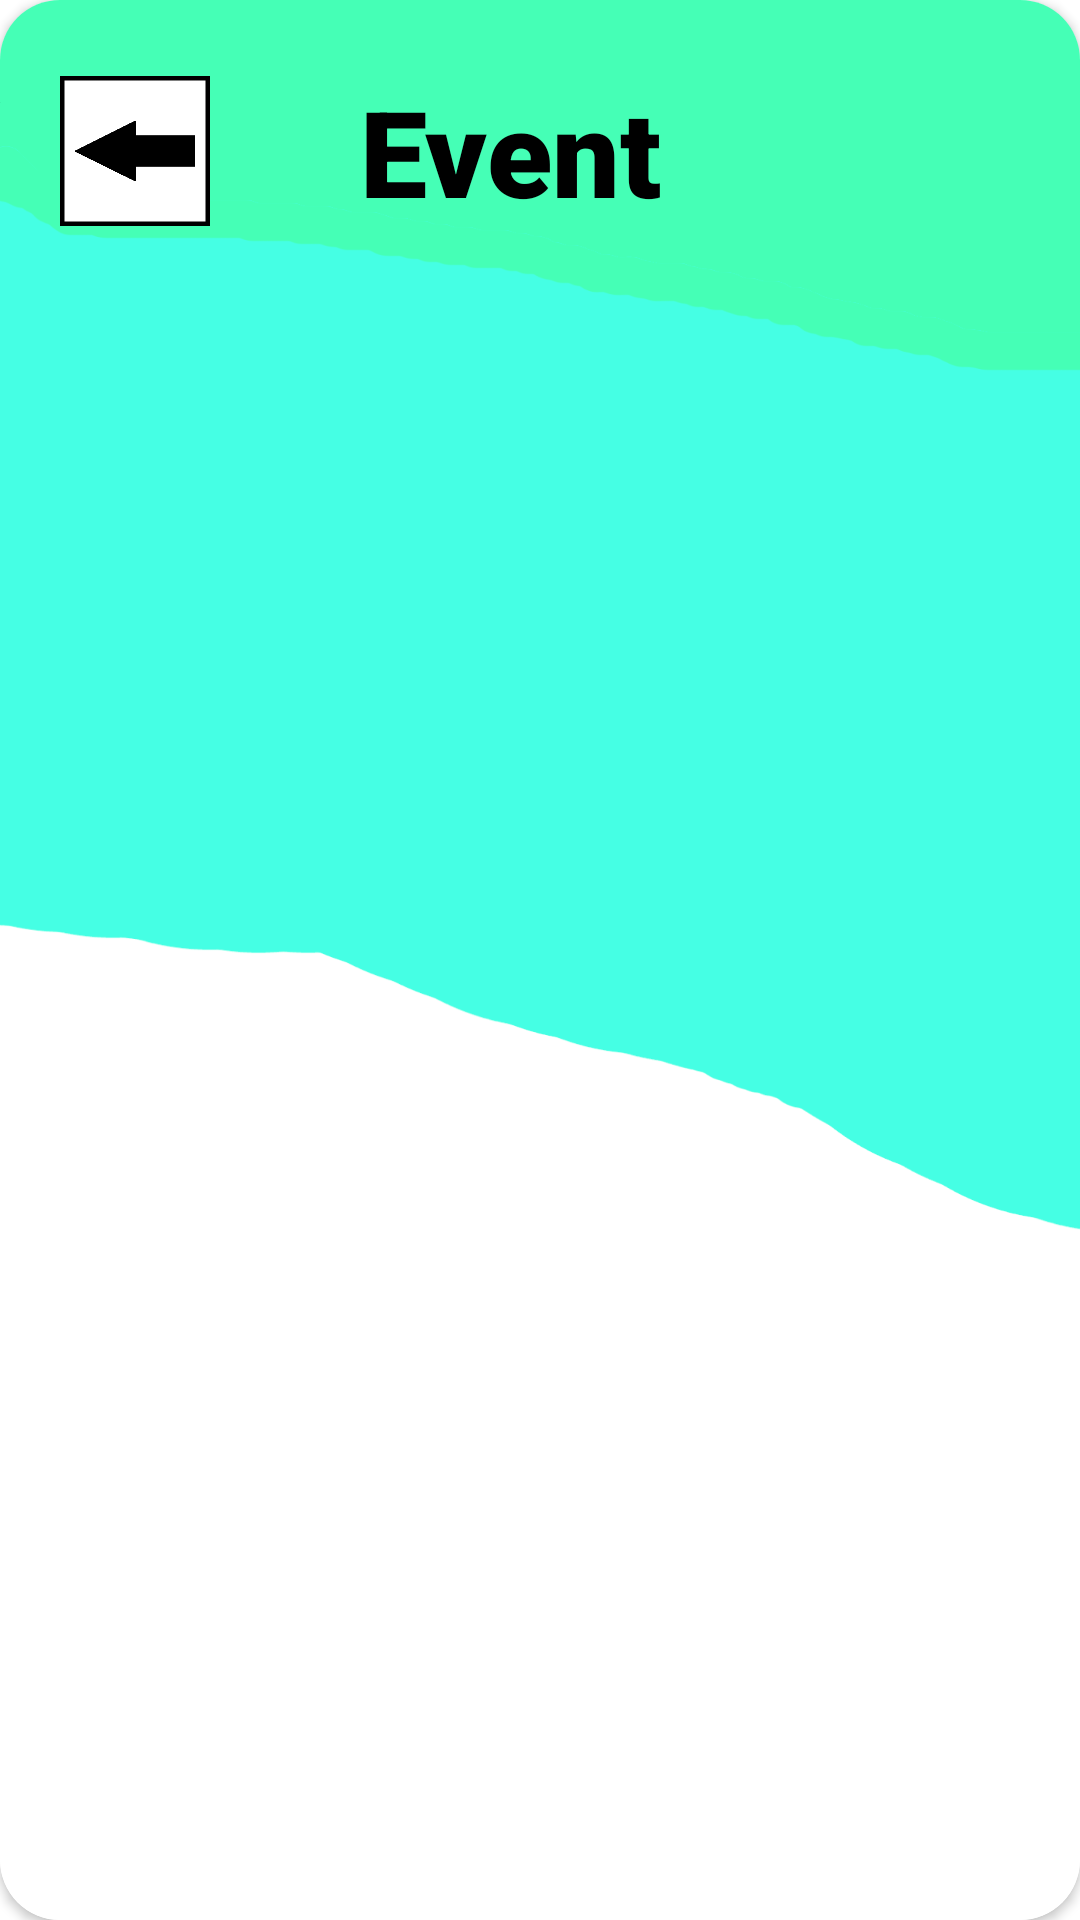

Where icons sit on this 1080w x 1920h app screen, as (x1, y1, x2, y2):
zurueck: (60, 76, 210, 226)
